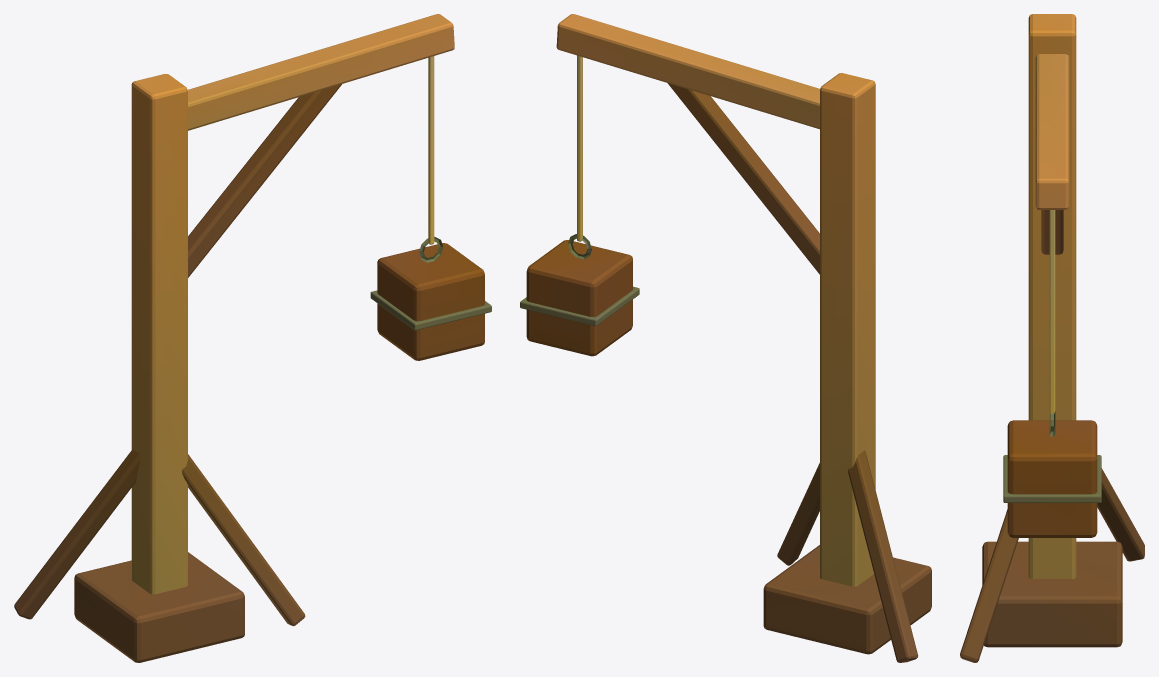
Rendered from Mine_Crane_01.glb.
3 views of the same model, side by side, from view 1: azimuth 30°, elevation 25°; view 2: azimuth 150°, elevation 25°; view 3: azimuth 270°, elevation 25° (orthographic). The views are drawn at different scales.
Parts seen in each view (by area): view 1: Mine_Crane_01; view 2: Mine_Crane_01; view 3: Mine_Crane_01.
Boxes of the visible parts, x1,y1,x2,y2 form: Mine_Crane_01: (14, 14, 491, 662); Mine_Crane_01: (520, 14, 931, 662); Mine_Crane_01: (960, 14, 1144, 662).
Bounding box in the file's own units: 3.76 × 4.7 × 1.32.
